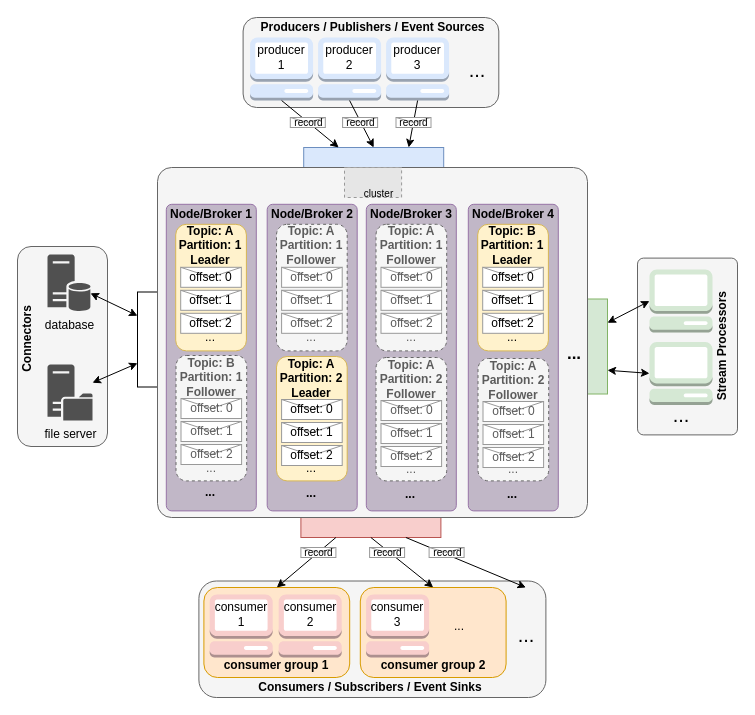
This 755x715 diagram has some shape labels left out. Grey dashed boxes stand in for pictures. The box of each missing label's shape, as (x1, y1, x2, y2) in pixels:
Connector API: (136, 291, 158, 387)
Consumer API: (300, 516, 441, 538)
Producer API: (303, 146, 444, 168)
Stream API: (586, 298, 608, 394)
